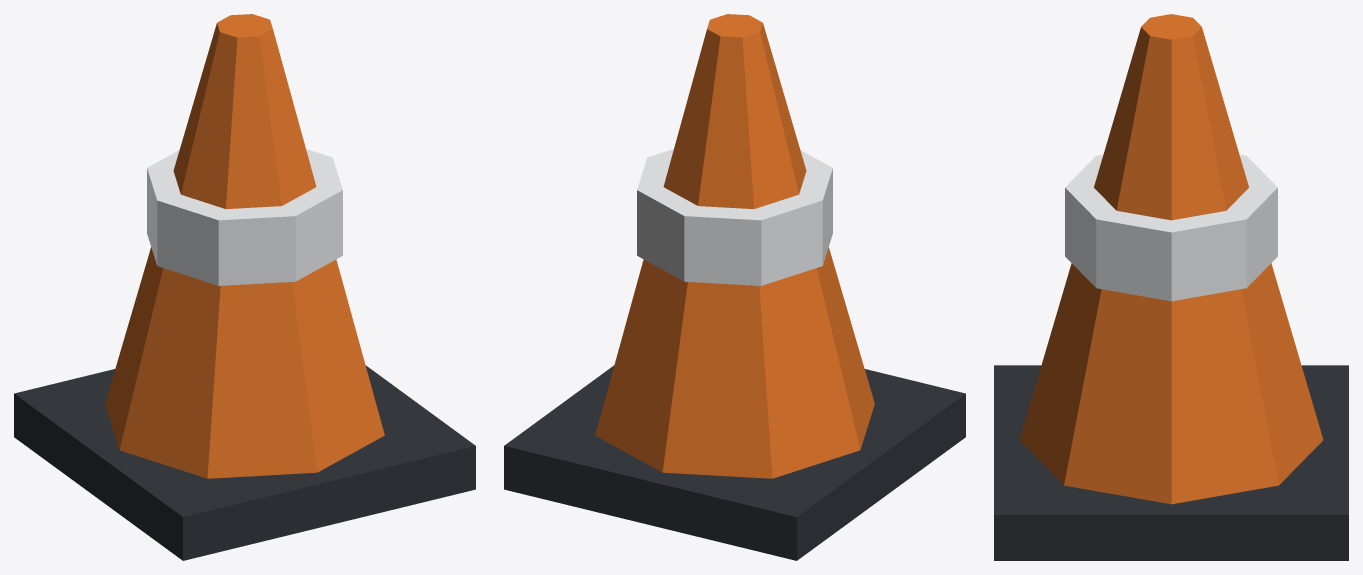
File: prop_traffic_cone.fbx
3 views of the same model, side by side, from view 1: azimuth 30°, elevation 25°; view 2: azimuth 150°, elevation 25°; view 3: azimuth 270°, elevation 25° (orthographic). The views are drawn at different scales.
Parts seen in each view (by area): view 1: prop_traffic_cone; view 2: prop_traffic_cone; view 3: prop_traffic_cone.
Part boxes in pixels (x1,y1,x2,y2): prop_traffic_cone: (14,14,475,560); prop_traffic_cone: (504,14,965,560); prop_traffic_cone: (994,14,1348,560).
Size of the model in its own units: 140 by 200 by 140.
